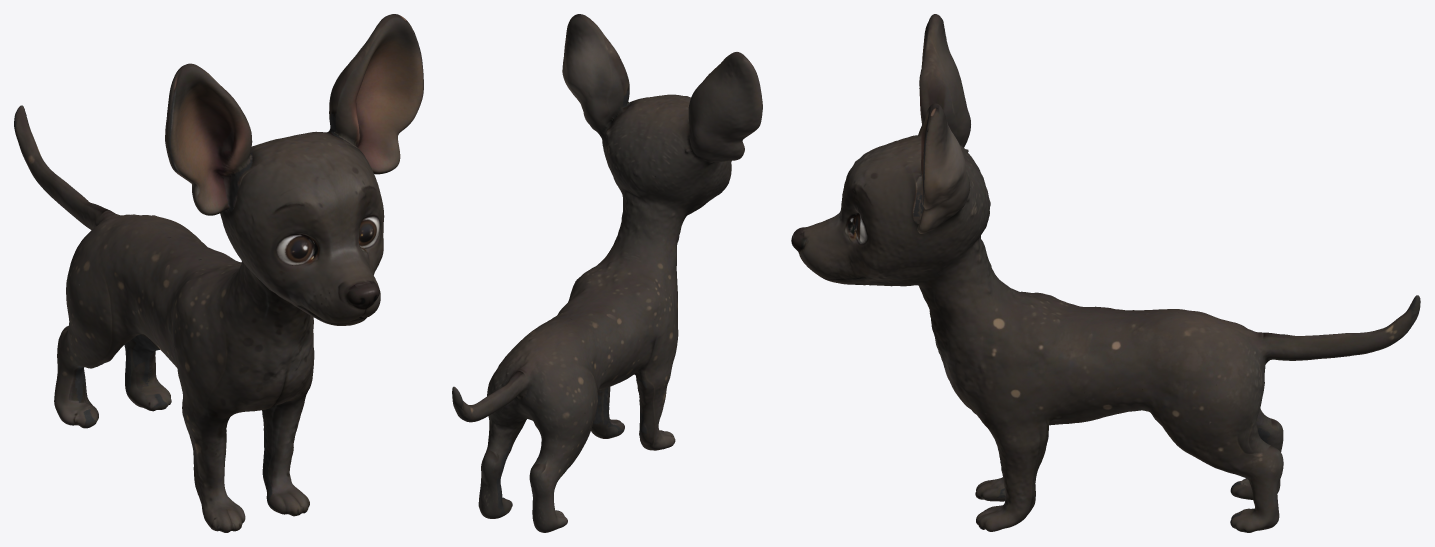
Rendered from PerroPeruano.glb.
3 renders of one model, left to right at view 1: azimuth 30°, elevation 25°; view 2: azimuth 150°, elevation 25°; view 3: azimuth 270°, elevation 25°, orthographic. The views are drawn at different scales.
Size of the model in its own units: 0.8421 by 1.58 by 1.99.
1 material, 1 textured.
